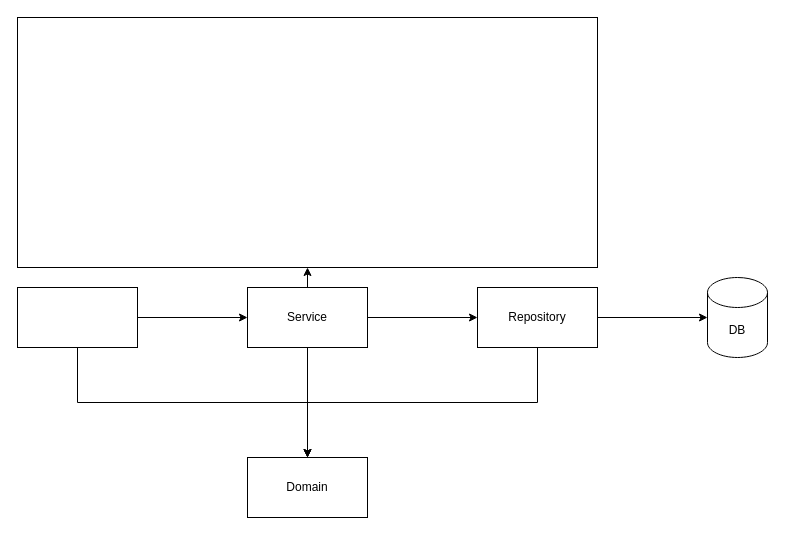
Image size: 785x535. Some labels were removed from this diagram. Here are the shapes that lost their labels. From the top down, the centre of each, then its label:
At (x=307, y=142): "Spring Security".
At (x=77, y=317): "Controller".
